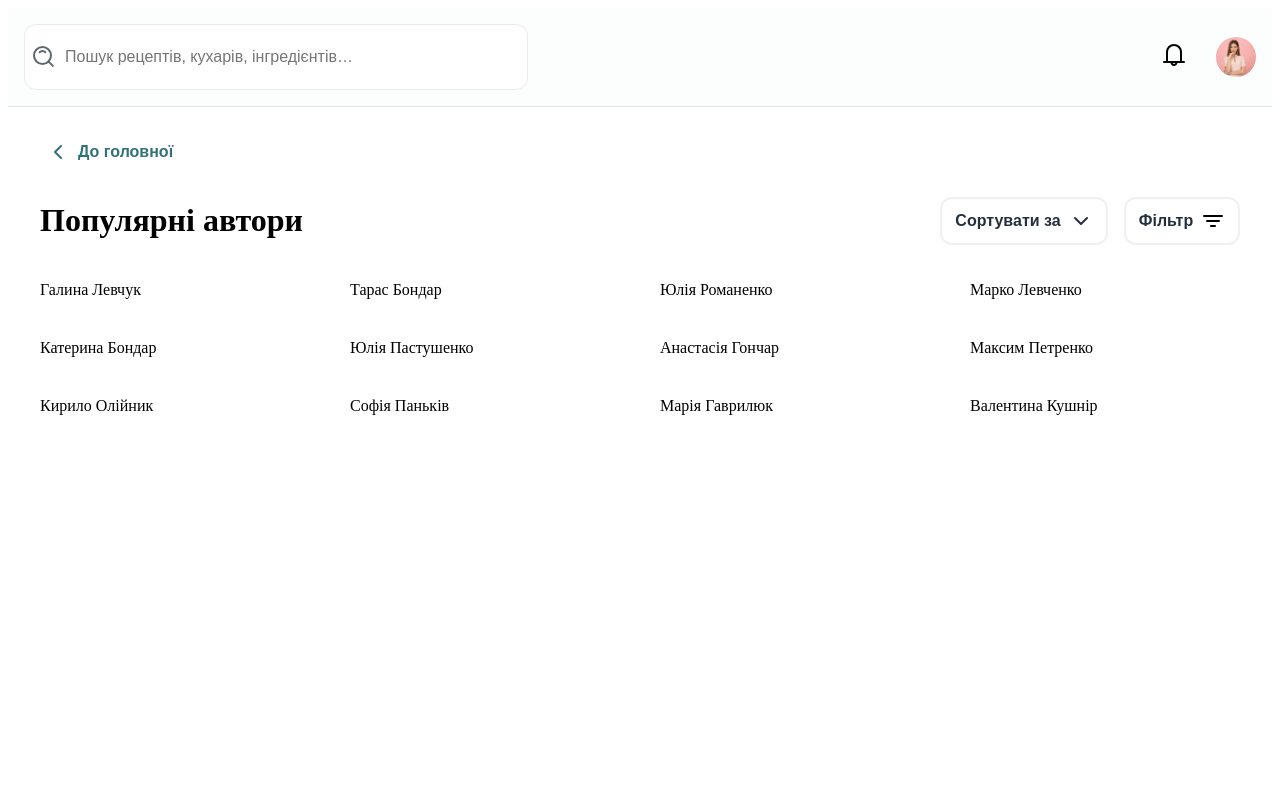
Scenario: AuthorsPage › кнопка фильтра открывает модалку AuthorFilterModal
Click the button "Фільтр".
click(1182, 221)  # box [1124,197,1240,245]
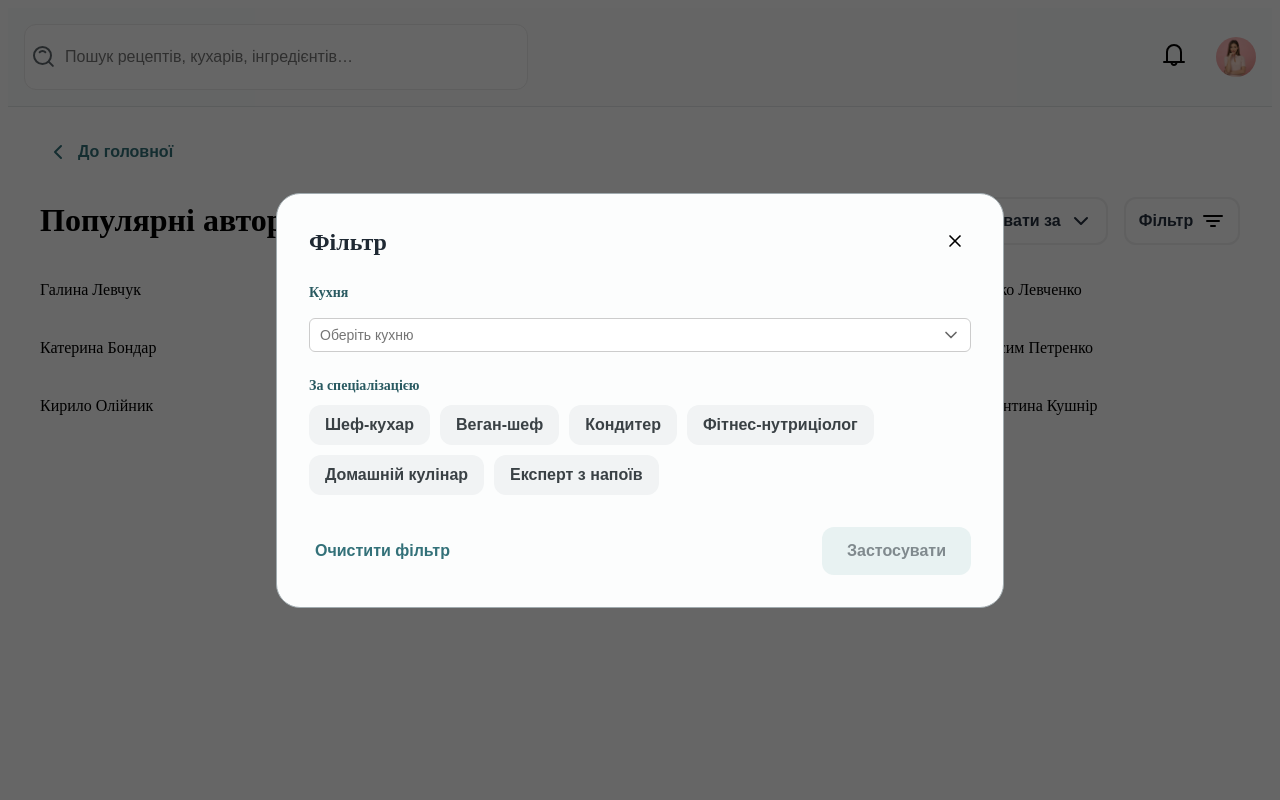
Result: the button "Очистити фільтр" is shown at [309,526,456,574]
